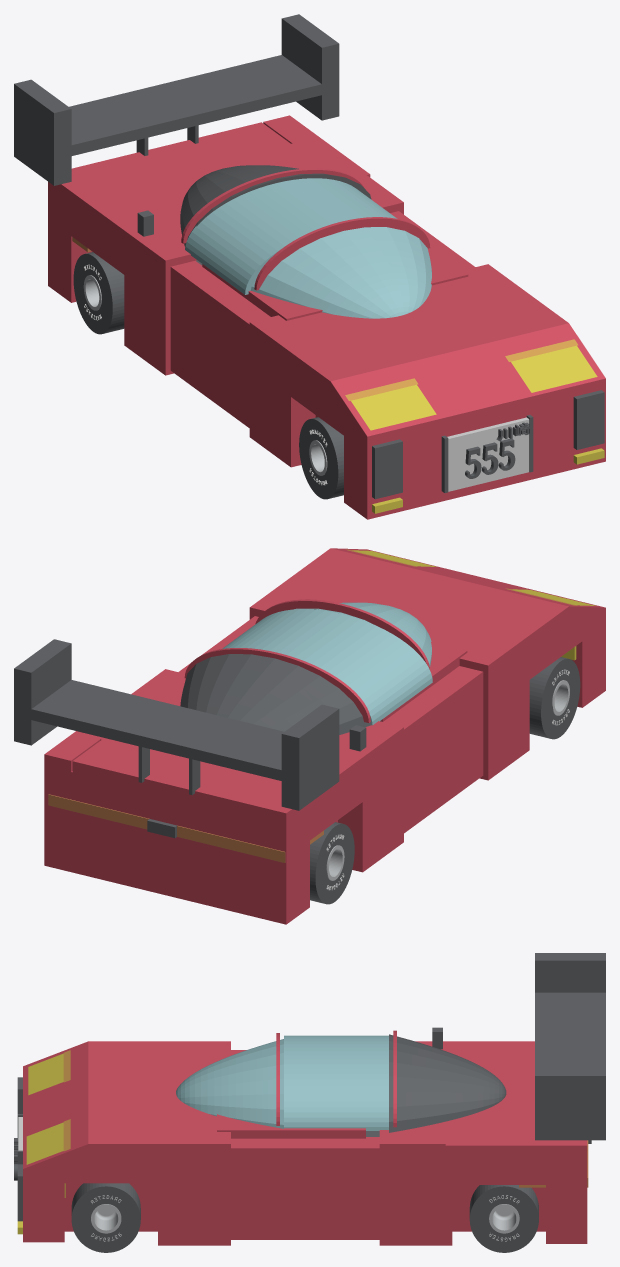
File: misaki_car_red.glb
The picture shows the model from 3 angles, top to bottom: view 1: azimuth 30°, elevation 25°; view 2: azimuth 150°, elevation 25°; view 3: azimuth 270°, elevation 25°; orthographic projection. The views are drawn at different scales.
Visible parts, largest first — view 1: Mesh_Mesh_head_geo.001_lambert2SG.001; view 2: Mesh_Mesh_head_geo.001_lambert2SG.001; view 3: Mesh_Mesh_head_geo.001_lambert2SG.001.
Boxes of the visible parts, box(x1,y1,x2,y2) form: Mesh_Mesh_head_geo.001_lambert2SG.001: box(14, 14, 605, 519); Mesh_Mesh_head_geo.001_lambert2SG.001: box(14, 548, 605, 924); Mesh_Mesh_head_geo.001_lambert2SG.001: box(14, 953, 605, 1252).
Size of the model in its own units: 82 by 58 by 167.
